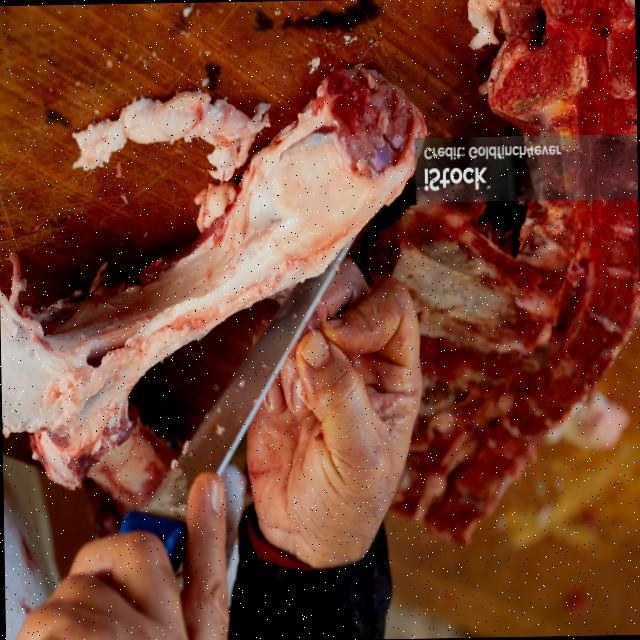Wet Waste: (12, 92, 418, 460)
